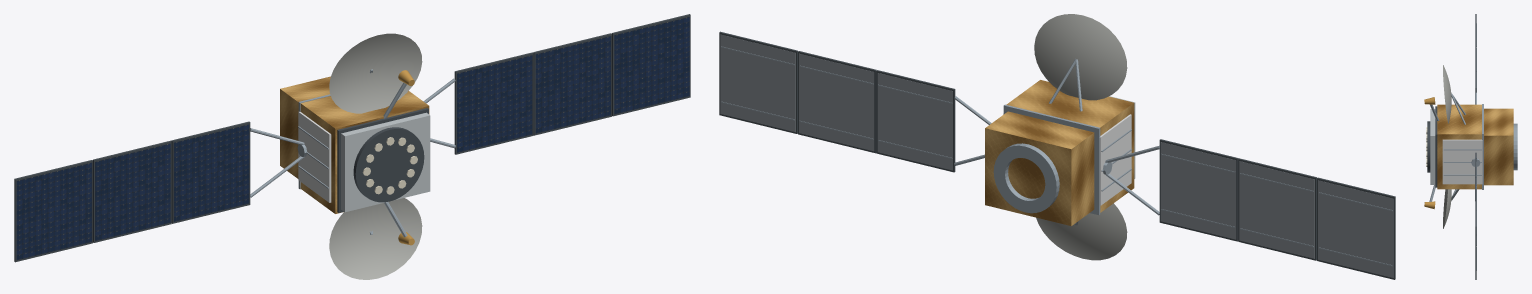
File: ref-ets-6-32500.glb
3 views of the same model, side by side, from view 1: azimuth 30°, elevation 25°; view 2: azimuth 150°, elevation 25°; view 3: azimuth 270°, elevation 25° (orthographic). The views are drawn at different scales.
Parts seen in each view (by area): view 1: Solar cell panel (×6), Communications reflector (×2), Solar panel frame (×6), Planar antenna aperture, Antenna equipment shelf, Payload module, Radiator face, Service module, Earth-facing deck; view 2: Rear array substrate (×6), Communications reflector (×2), Service module, Solar panel frame (×6), Payload module, Launch adapter ring, Radiator face, Module interface; view 3: Service module, Payload module, Radiator face, Communications reflector (×2), Antenna equipment shelf, Launch adapter ring, Earth-facing deck, Planar antenna aperture, Module interface, Feed horn (×2), Solar panel frame, Radiator seam (×2) (+1 smaller).
Boxes of the visible parts, x1,y1,x2,y2 form: Solar cell panel (×6): (16,17,689,260); Communications reflector (×2): (329,33,422,279); Solar panel frame (×6): (14,14,690,262); Planar antenna aperture: (353,127,424,202); Antenna equipment shelf: (341,112,430,212); Payload module: (300,91,429,213); Radiator face: (298,111,331,202); Service module: (280,76,330,178); Earth-facing deck: (337,108,428,212); Rear array substrate (×6): (720,34,1393,277); Communications reflector (×2): (1034,14,1127,260); Service module: (985,111,1094,226); Solar panel frame (×6): (719,31,1395,279); Payload module: (1006,80,1134,212); Launch adapter ring: (993,143,1059,213); Radiator face: (1099,114,1131,205); Module interface: (1003,104,1100,215); Service module: (1484,108,1513,185); Payload module: (1437,104,1481,189); Radiator face: (1442,139,1482,184); Communications reflector (×2): (1443,65,1451,228); Antenna equipment shelf: (1430,109,1435,184); Launch adapter ring: (1513,123,1517,170); Earth-facing deck: (1435,106,1437,187); Planar antenna aperture: (1427,121,1430,172); Module interface: (1482,104,1483,189); Feed horn (×2): (1424,97,1435,209); Solar panel frame: (1475,202,1476,279); Radiator seam (×2): (1443,149,1481,175).
Size of the model in its own units: 21.57 by 7.43 by 4.
Materials: 10 (2 with a texture image).
